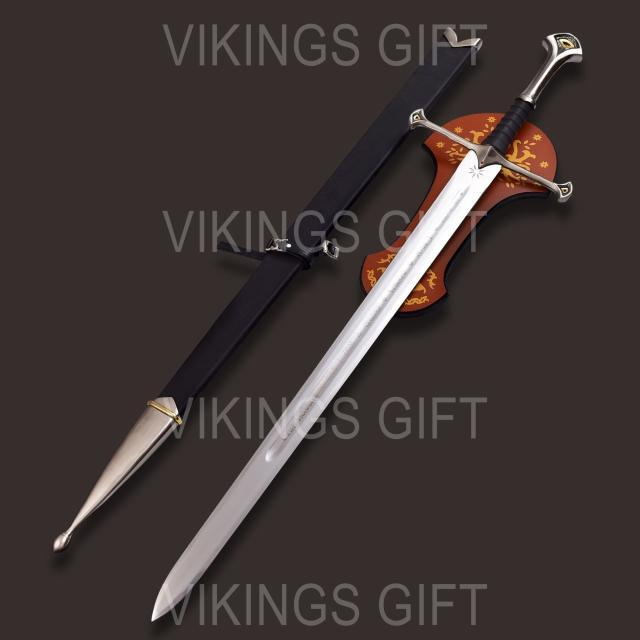scabbard: (36, 21, 496, 568)
sword: (133, 23, 610, 630)
